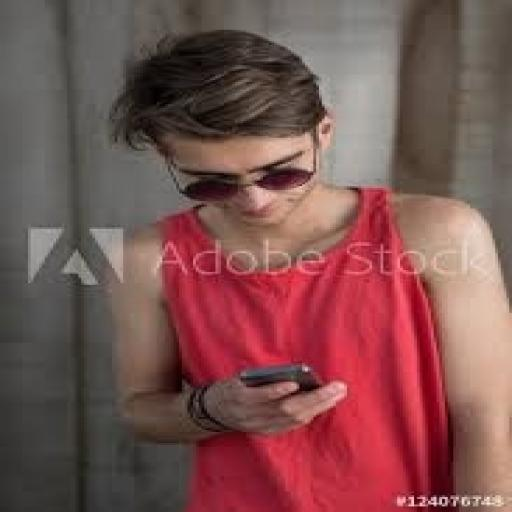texting: (104, 28, 509, 510)
